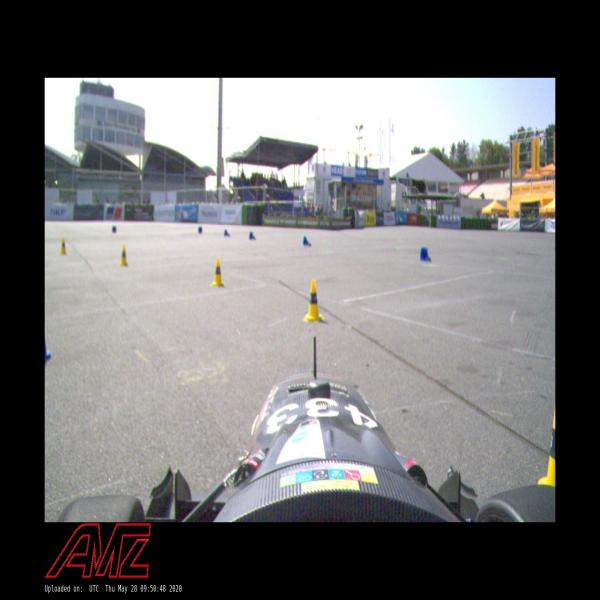blue_cone: (418, 247, 432, 262), (302, 236, 312, 248), (248, 231, 256, 241), (223, 229, 231, 237)
yellow_cone: (303, 279, 325, 324), (211, 258, 225, 288), (119, 245, 129, 268), (58, 237, 68, 256)
